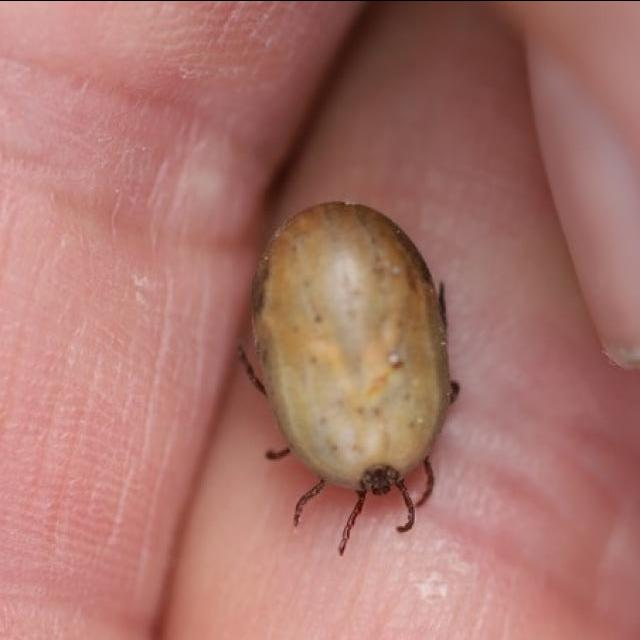Dermacentor Reticulatus-F-Fed: (238, 200, 460, 553)
